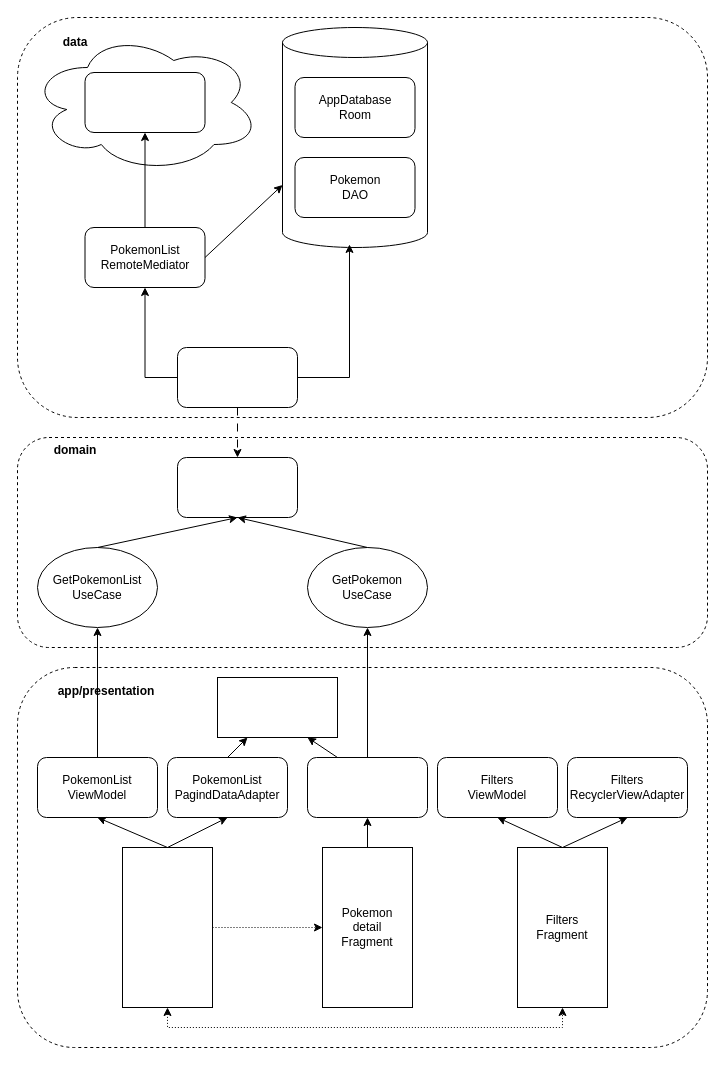
The diagram is 725 pixels wide and 1065 high, and some of its shapes have lost their labels. The shapes that lost their labels are listed below. From the top down, each one's box as (x1, y1, x2, y2) in pixels, then its label:
(84, 72, 205, 132): PokemonApi Retrofit
(176, 346, 298, 408): Pokemon RepositoryImpl
(176, 456, 298, 518): Pokemon Repository
(216, 676, 338, 738): Glide
(306, 756, 428, 818): PokemonDetails ViewModel
(122, 846, 212, 1008): Pokemon list Fragment
